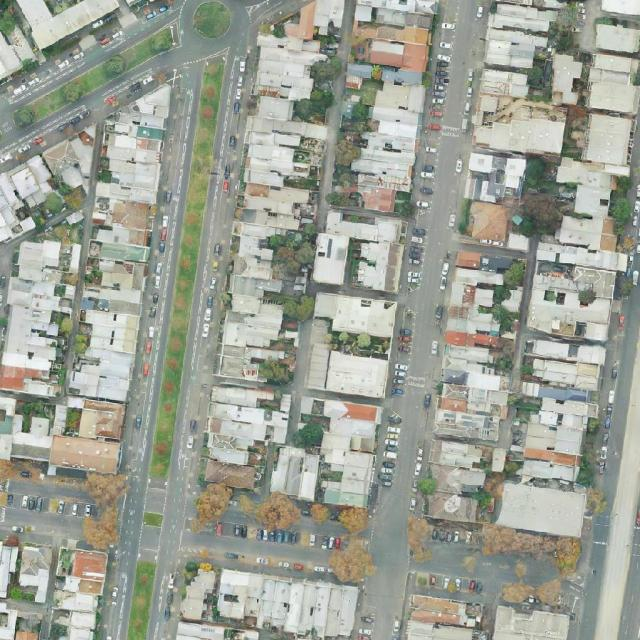building: (48, 195, 159, 479), (420, 329, 523, 528), (497, 389, 605, 540), (237, 0, 350, 114), (345, 76, 427, 216), (0, 542, 108, 640), (525, 241, 627, 344), (95, 76, 173, 206), (470, 68, 572, 159), (222, 222, 292, 351), (302, 398, 383, 509), (244, 98, 310, 229), (202, 377, 292, 471), (312, 207, 409, 294), (349, 0, 437, 75), (217, 304, 297, 381), (304, 333, 392, 399), (550, 155, 629, 222), (0, 394, 68, 469), (0, 155, 52, 242), (36, 127, 104, 192), (446, 267, 507, 338), (526, 338, 606, 390), (312, 292, 398, 339), (464, 151, 527, 206), (268, 444, 323, 502), (535, 241, 628, 273), (344, 62, 424, 97), (555, 216, 616, 251), (0, 24, 38, 79), (549, 53, 583, 105), (467, 201, 510, 242), (203, 459, 258, 491), (455, 249, 513, 275), (500, 283, 525, 314), (310, 317, 331, 346), (303, 122, 329, 142), (508, 232, 531, 252), (84, 120, 102, 138), (300, 396, 314, 414), (345, 76, 363, 88)
greenland: (148, 60, 227, 477), (9, 25, 179, 132), (478, 522, 583, 575), (290, 50, 350, 129), (517, 26, 575, 107), (264, 222, 328, 282), (80, 472, 128, 552), (179, 476, 238, 539), (324, 534, 381, 592), (251, 487, 306, 542), (488, 258, 526, 334), (35, 178, 90, 220), (518, 192, 563, 240), (254, 353, 296, 394), (335, 498, 374, 537), (502, 579, 561, 604), (193, 0, 232, 37), (405, 515, 433, 563), (610, 176, 632, 232), (524, 158, 558, 194), (16, 401, 56, 431), (345, 119, 376, 151), (553, 0, 585, 31), (284, 295, 314, 321), (292, 424, 324, 448), (306, 499, 333, 526), (335, 139, 360, 166), (325, 191, 363, 206), (526, 159, 544, 184), (0, 10, 16, 36), (0, 460, 14, 483), (351, 104, 369, 121)
metalled_road: (144, 48, 259, 640), (311, 0, 358, 230), (180, 516, 343, 581), (0, 492, 88, 550), (9, 472, 95, 502), (617, 530, 640, 639), (420, 540, 480, 577), (472, 550, 518, 594), (291, 320, 316, 397), (245, 0, 312, 24), (299, 515, 344, 538), (524, 556, 558, 586), (144, 477, 168, 513), (222, 503, 255, 527), (144, 487, 167, 513), (140, 525, 161, 549), (139, 549, 157, 562)
